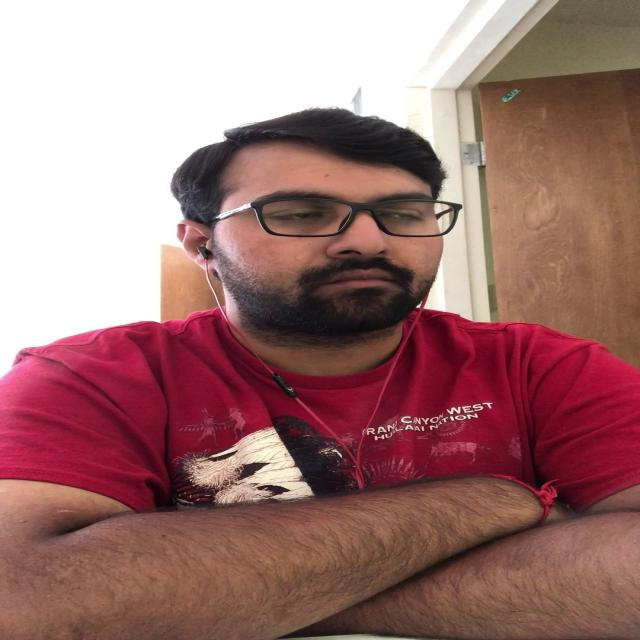Eyeclosed: (274, 206, 322, 226), (380, 208, 425, 224)
